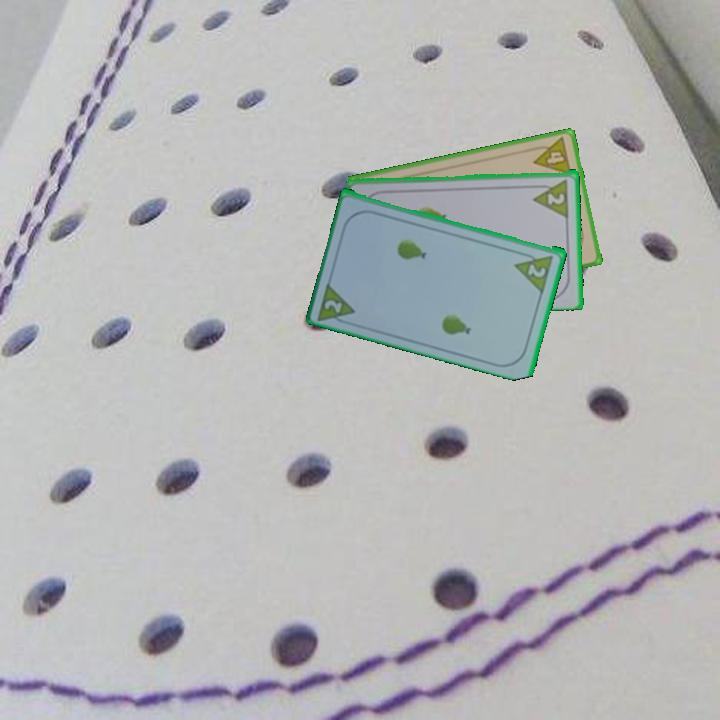2p: (530, 175, 571, 219), (524, 260, 549, 280), (321, 296, 346, 316)
4p: (528, 134, 574, 178)
